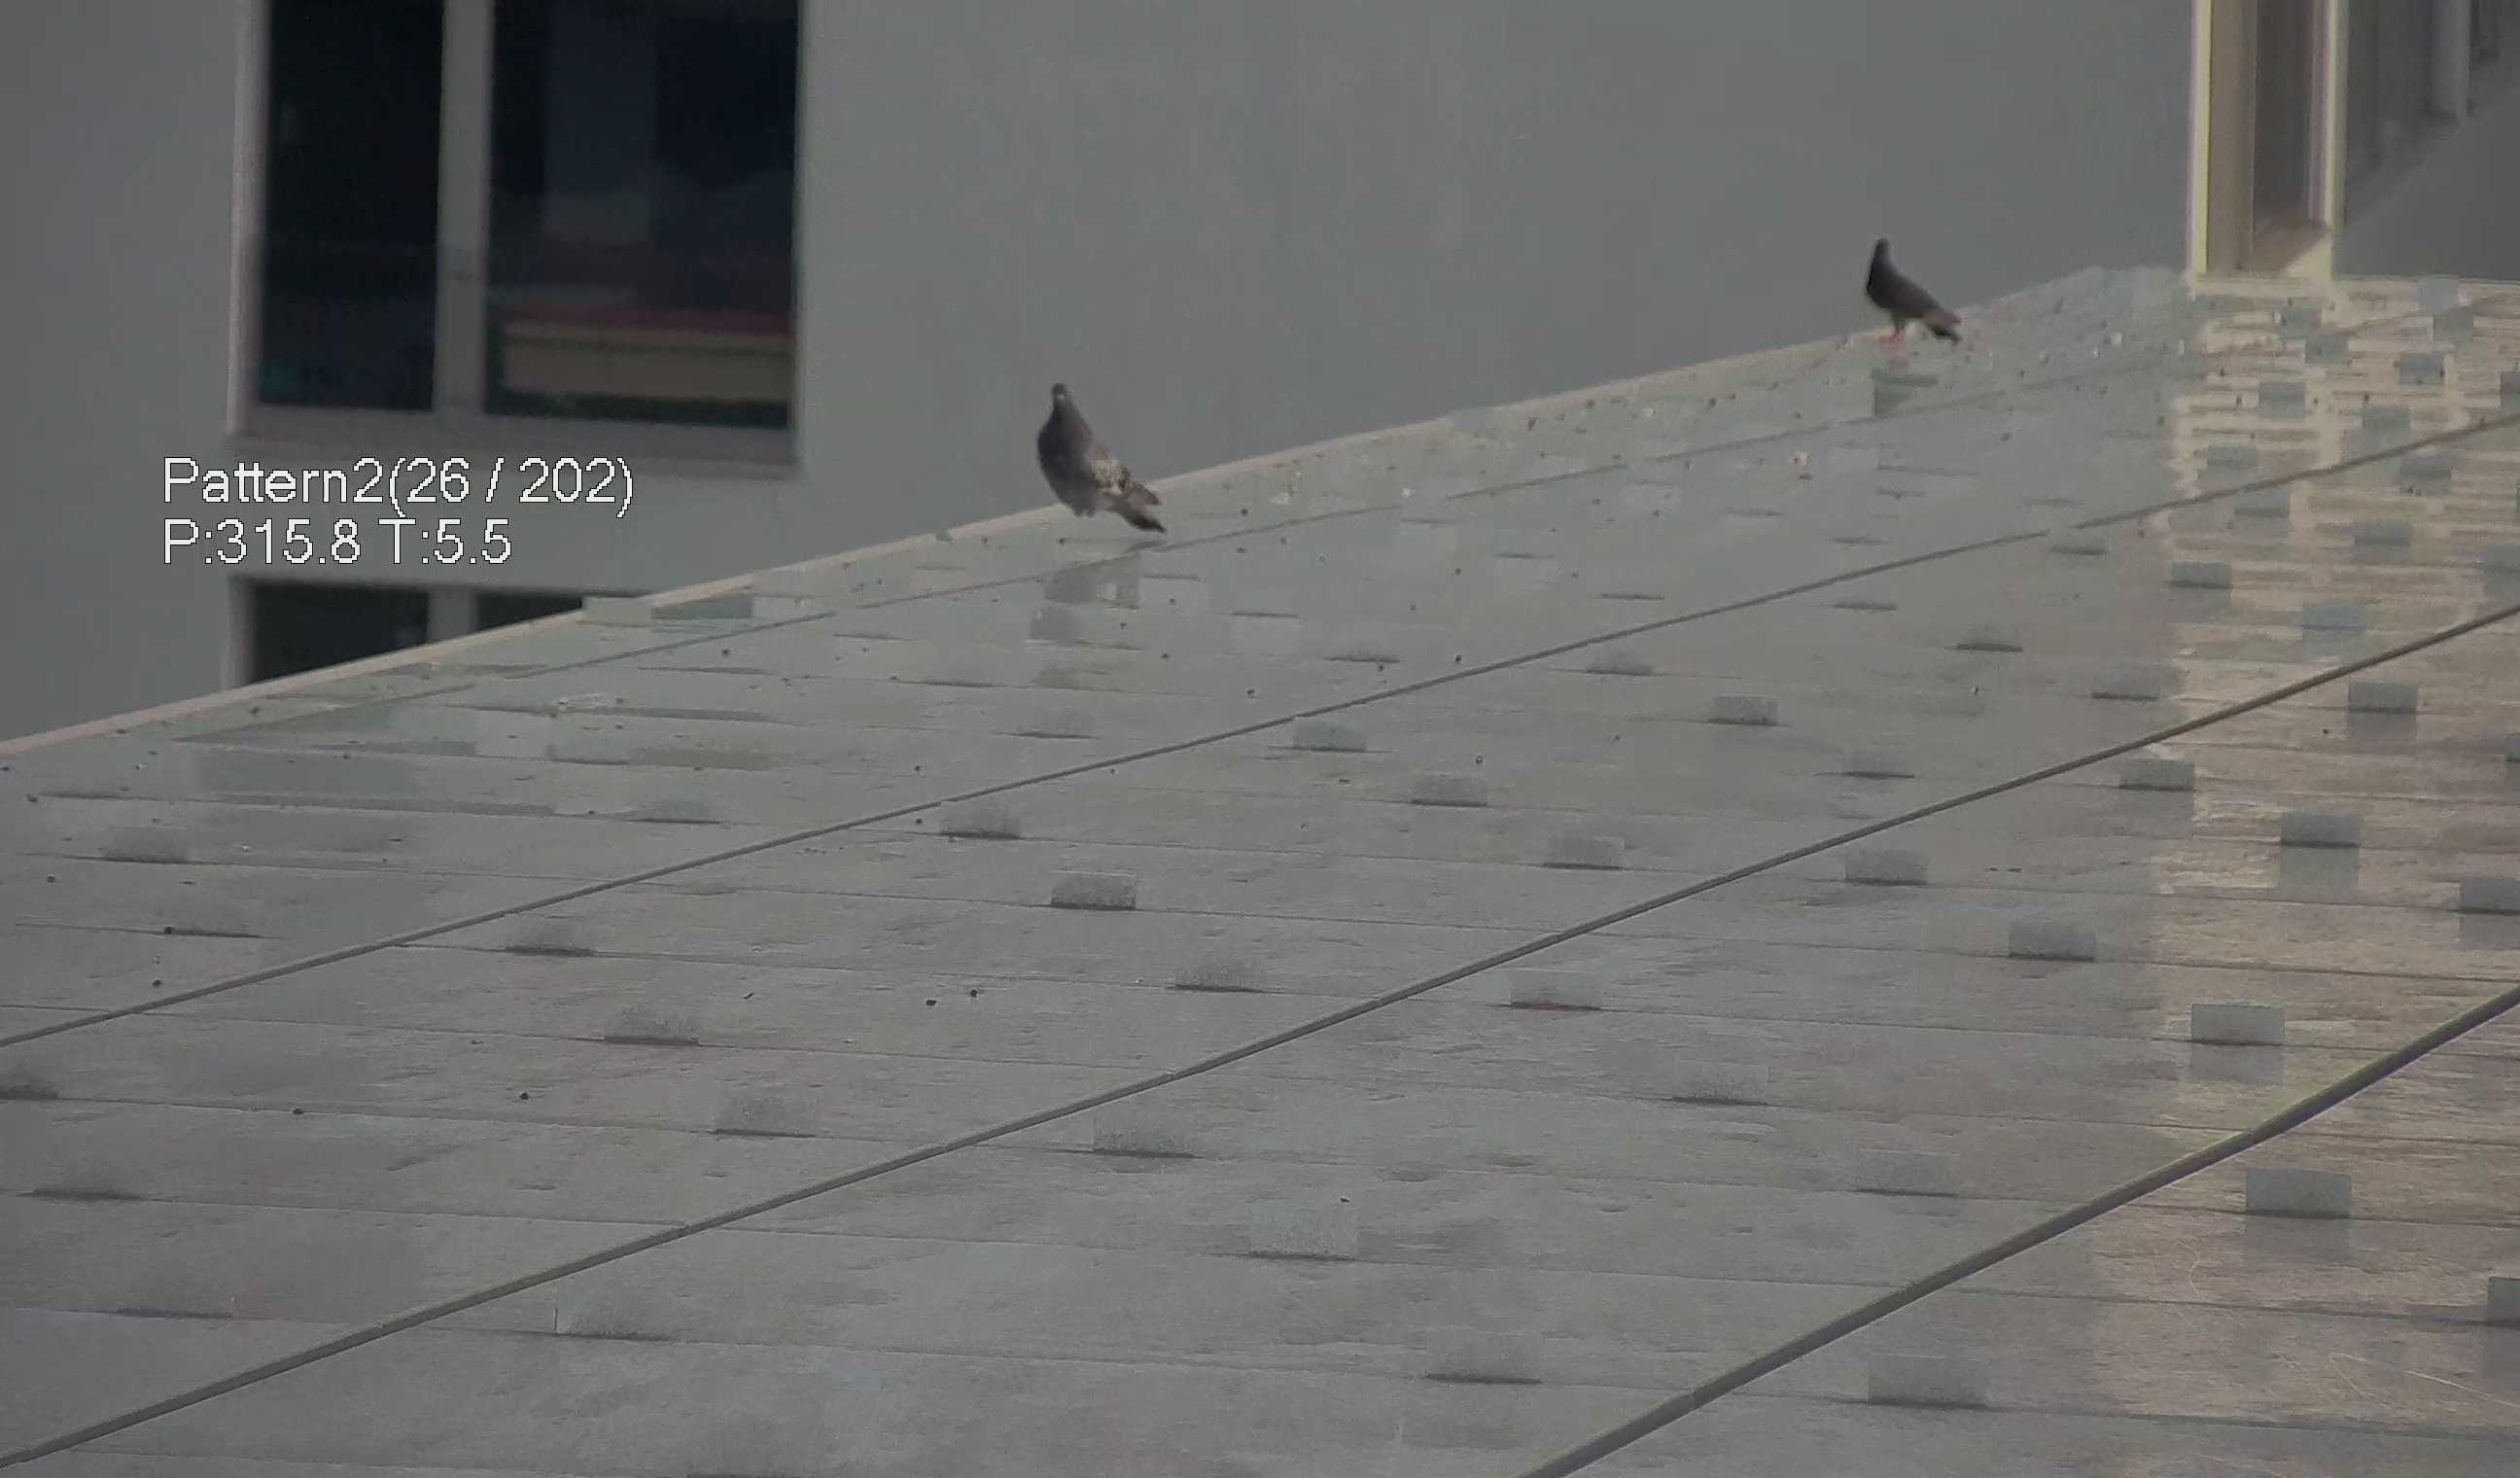Pigeon: (1018, 368, 1164, 540), (1859, 223, 1984, 355)
